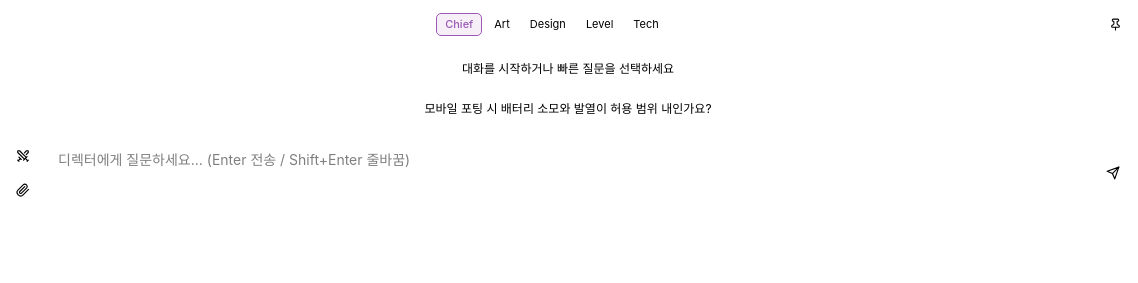
ChatInput — send › pressing Enter sends the message and adds user message
The width and height of the screenshot is (1138, 283).
Type "테스트 질문" into the text box with test id "chat-textarea".
click(568, 173); type("테스트 질문")  # box [46,141,1090,205]
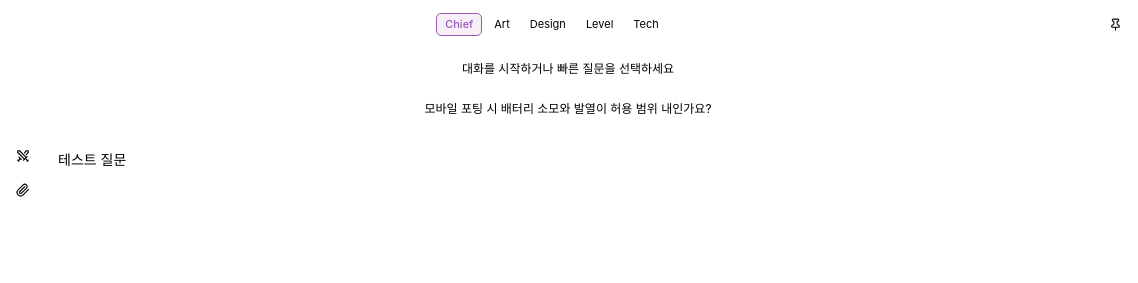
Press Enter in the text box with test id "chat-textarea", box [46,141,1090,205]
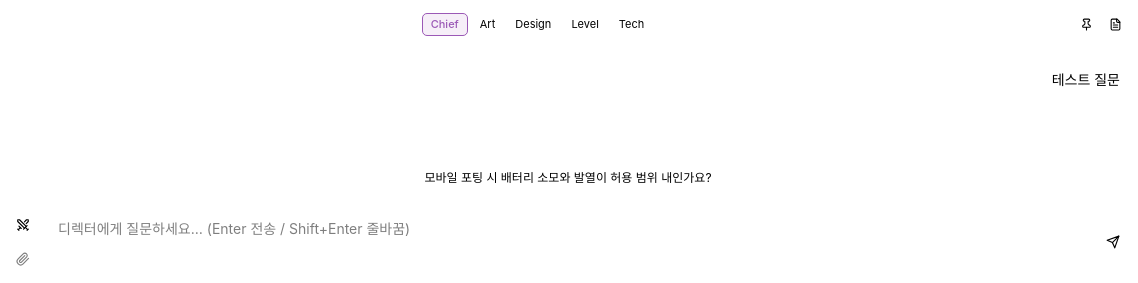
Expected: the text "테스트 질문" is shown, [1052,71,1120,88]
